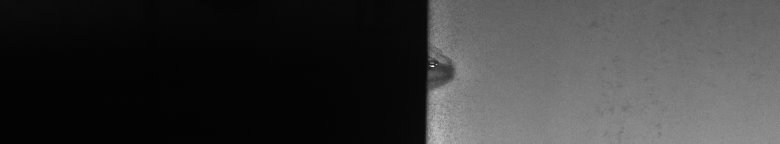hb: (436, 44, 463, 96)
